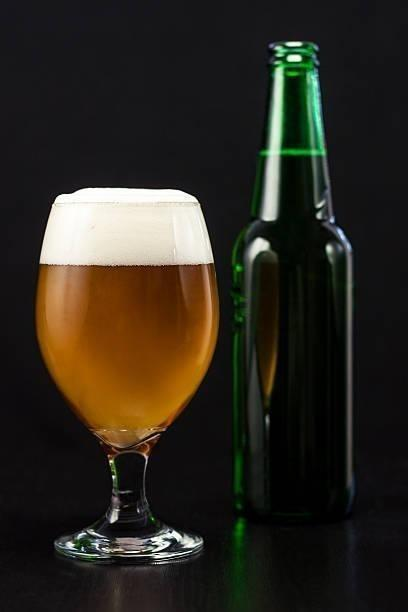bottle-glass: (224, 35, 360, 526)
glass-wine: (31, 184, 223, 568)
